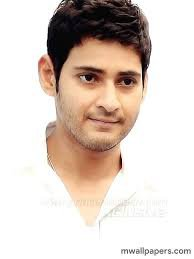noMask: (33, 1, 157, 157)
